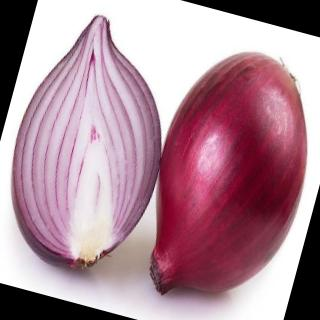Bawang Merah: (123, 26, 320, 320), (1, 1, 196, 295)
